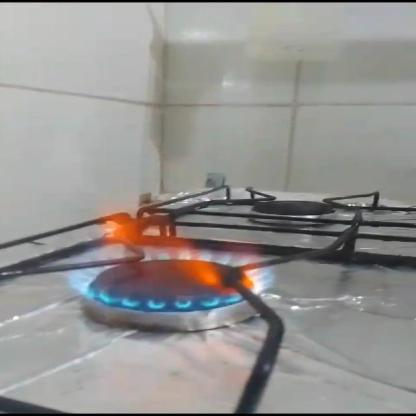fire: (67, 193, 283, 308)
